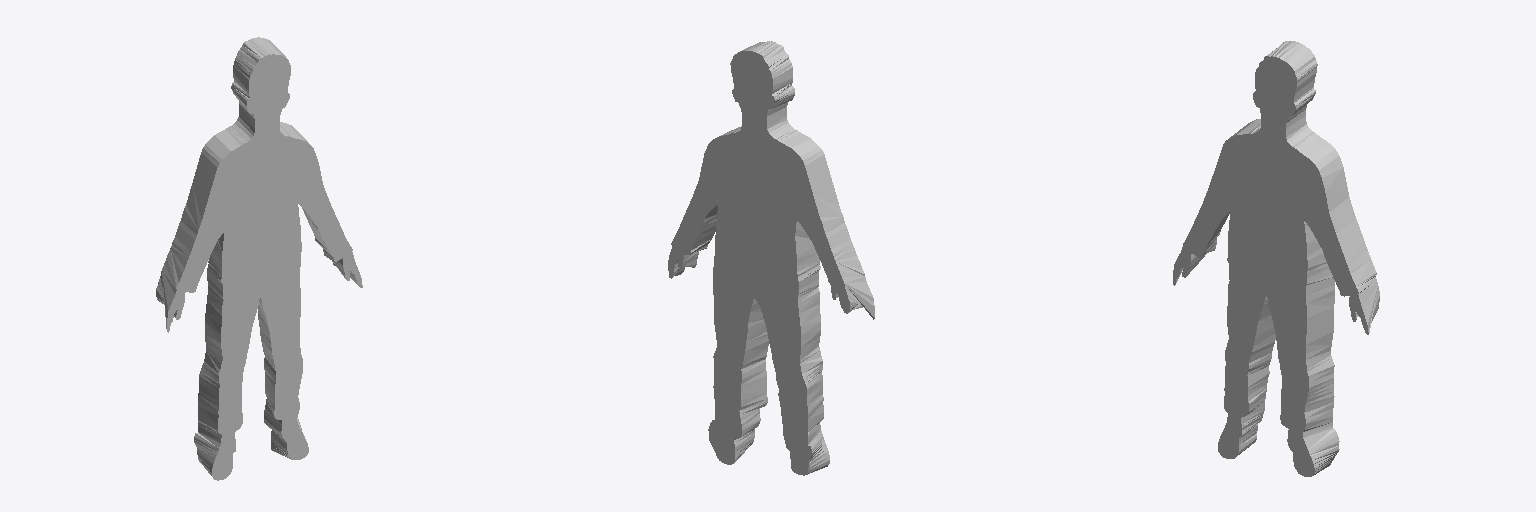
File: leo.obj
3 views of the same model, side by side, from view 1: azimuth 30°, elevation 25°; view 2: azimuth 150°, elevation 25°; view 3: azimuth 330°, elevation 25° (orthographic).
Visible parts, largest first — view 1: Curve.001_CUCurve.001; view 2: Curve.001_CUCurve.001; view 3: Curve.001_CUCurve.001.
Part boxes in pixels (left/top/right/bottom): Curve.001_CUCurve.001: left=156, top=37, right=362, bottom=480; Curve.001_CUCurve.001: left=668, top=41, right=874, bottom=475; Curve.001_CUCurve.001: left=1173, top=41, right=1379, bottom=476.
Size of the model in its own units: 4.34 by 8.85 by 0.6884.